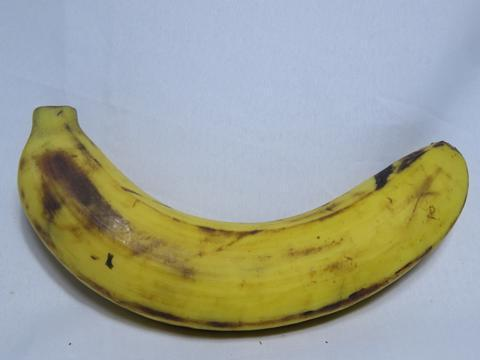overripe: (0, 69, 479, 351)
